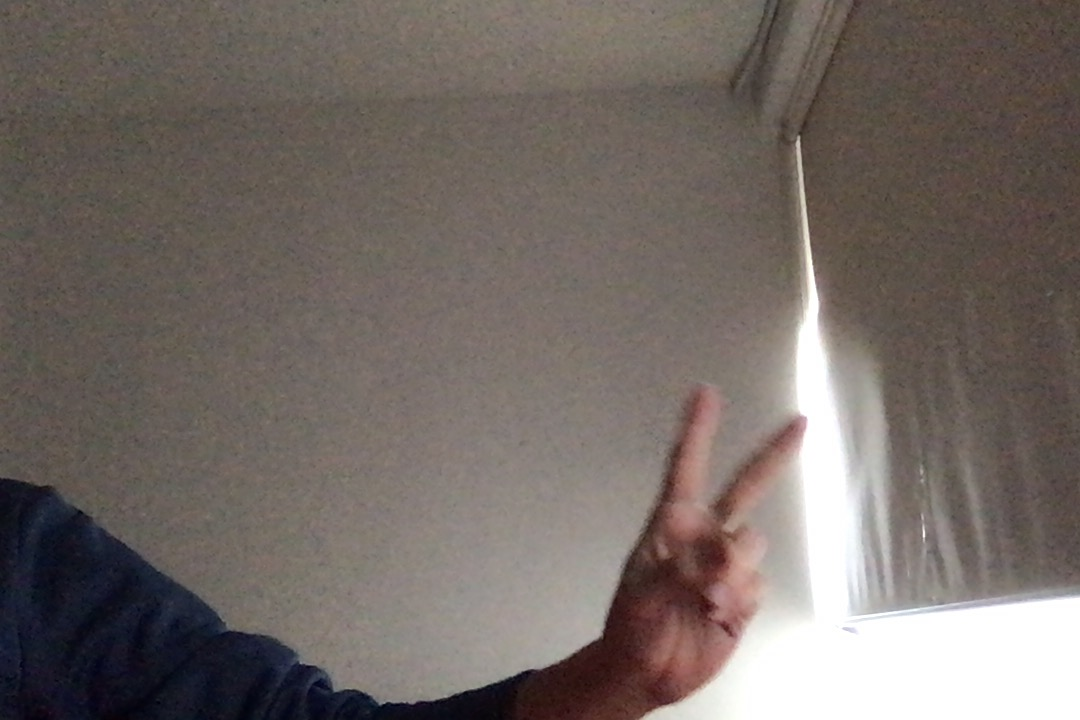peacesign: (592, 374, 819, 714)
